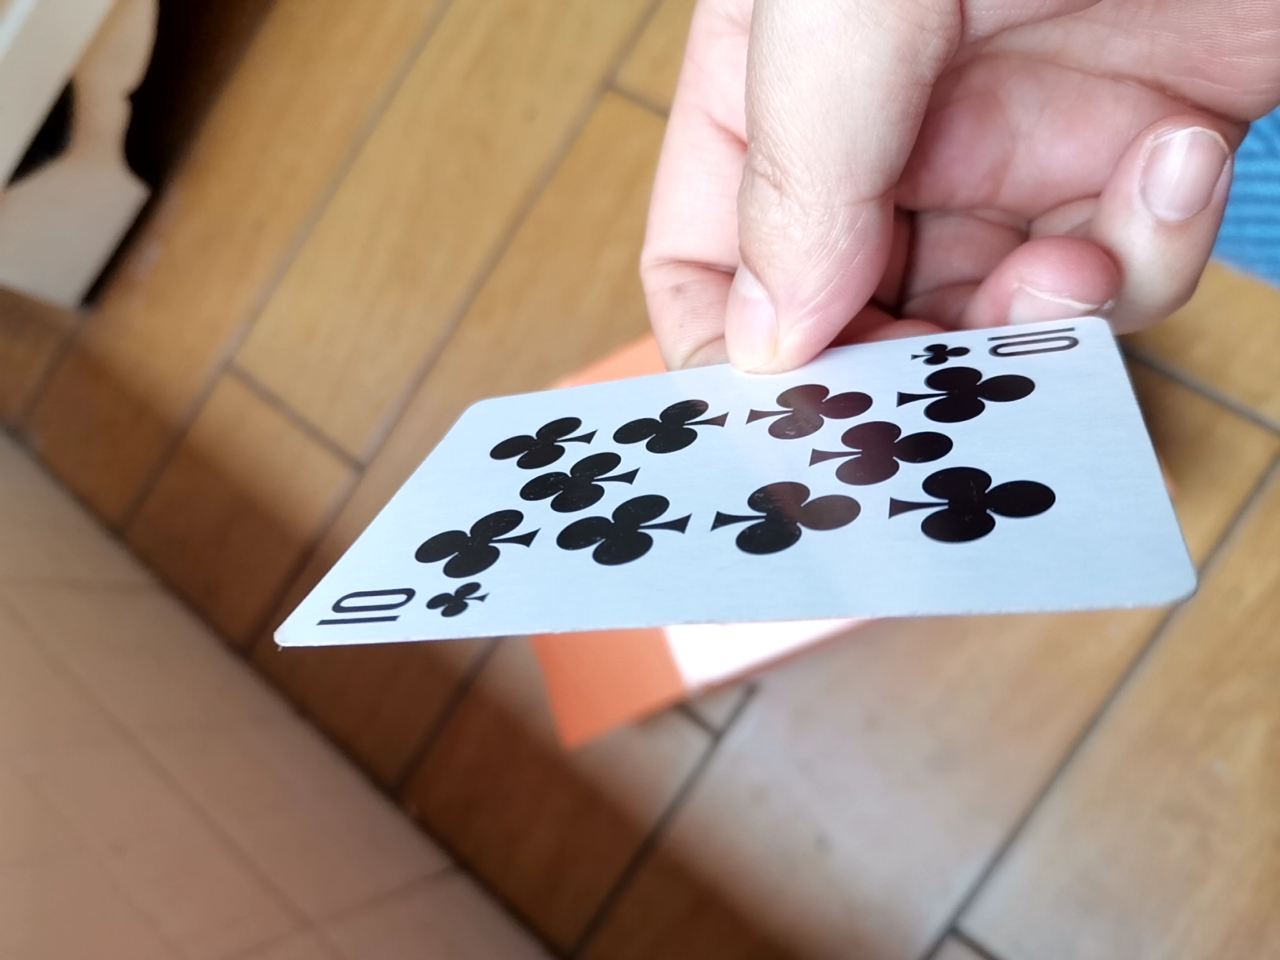mh 10: (271, 289, 1204, 671)
